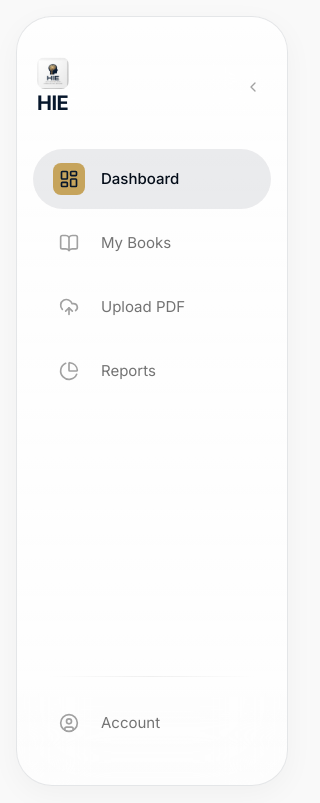
it: Sidebar — collapse toggle › hides nav labels and flips the toggle button after a click
The image size is (320, 803).
Click the button named "collapse sidebar" at (253,87), box [239,73,267,101]
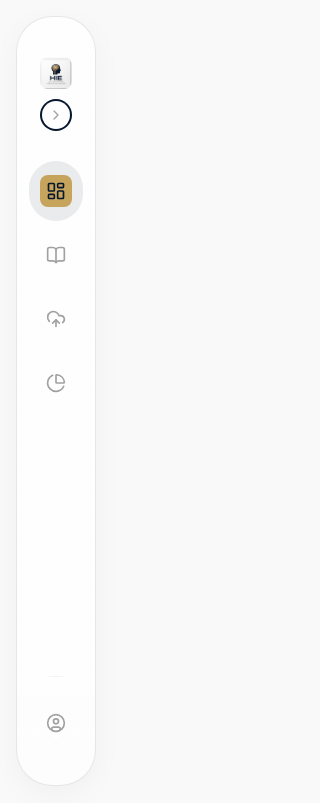
Expected: the link named "My Books" is shown, [46,245,66,265]
Now the link "My Books" is gone
Now the button named "expand sidebar" is shown, box [42,101,70,129]
